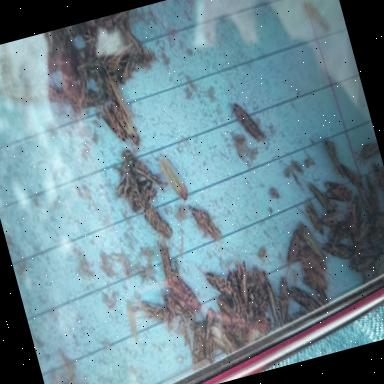pbw: (100, 65, 134, 123), (110, 42, 150, 88), (158, 152, 190, 208), (106, 154, 143, 202), (296, 217, 330, 267), (168, 271, 202, 320), (110, 98, 140, 150), (182, 323, 214, 370), (232, 100, 264, 146), (244, 264, 272, 316), (215, 291, 249, 333), (71, 84, 111, 118), (166, 292, 198, 334), (188, 204, 220, 245), (138, 296, 175, 331), (144, 204, 174, 246), (308, 180, 338, 222), (288, 282, 322, 318), (280, 230, 310, 270), (72, 49, 97, 97), (262, 278, 285, 330), (130, 158, 162, 194), (206, 268, 238, 304), (101, 104, 127, 148), (232, 264, 255, 312), (322, 178, 356, 210), (323, 237, 358, 268), (273, 279, 297, 322), (304, 275, 332, 310), (156, 242, 178, 286), (301, 197, 324, 238), (303, 262, 332, 294), (128, 189, 160, 216), (198, 310, 221, 344), (102, 11, 132, 37), (340, 160, 364, 192), (200, 330, 222, 362), (358, 140, 382, 164), (318, 210, 346, 230), (237, 325, 260, 349), (352, 220, 376, 243), (324, 138, 342, 168), (358, 184, 374, 215), (373, 165, 384, 207), (357, 245, 381, 263), (215, 312, 236, 332), (368, 252, 384, 274), (354, 257, 376, 271), (354, 196, 366, 221), (211, 334, 226, 354), (371, 210, 384, 232), (348, 202, 360, 223), (375, 233, 384, 248)
